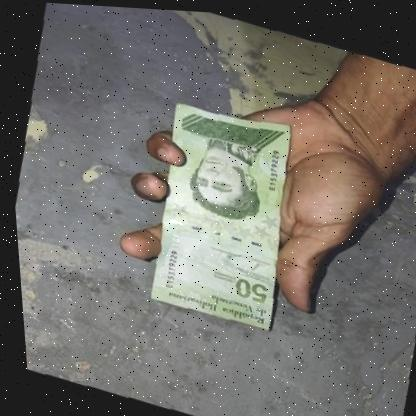fifty-front-vef: (125, 86, 315, 334)
